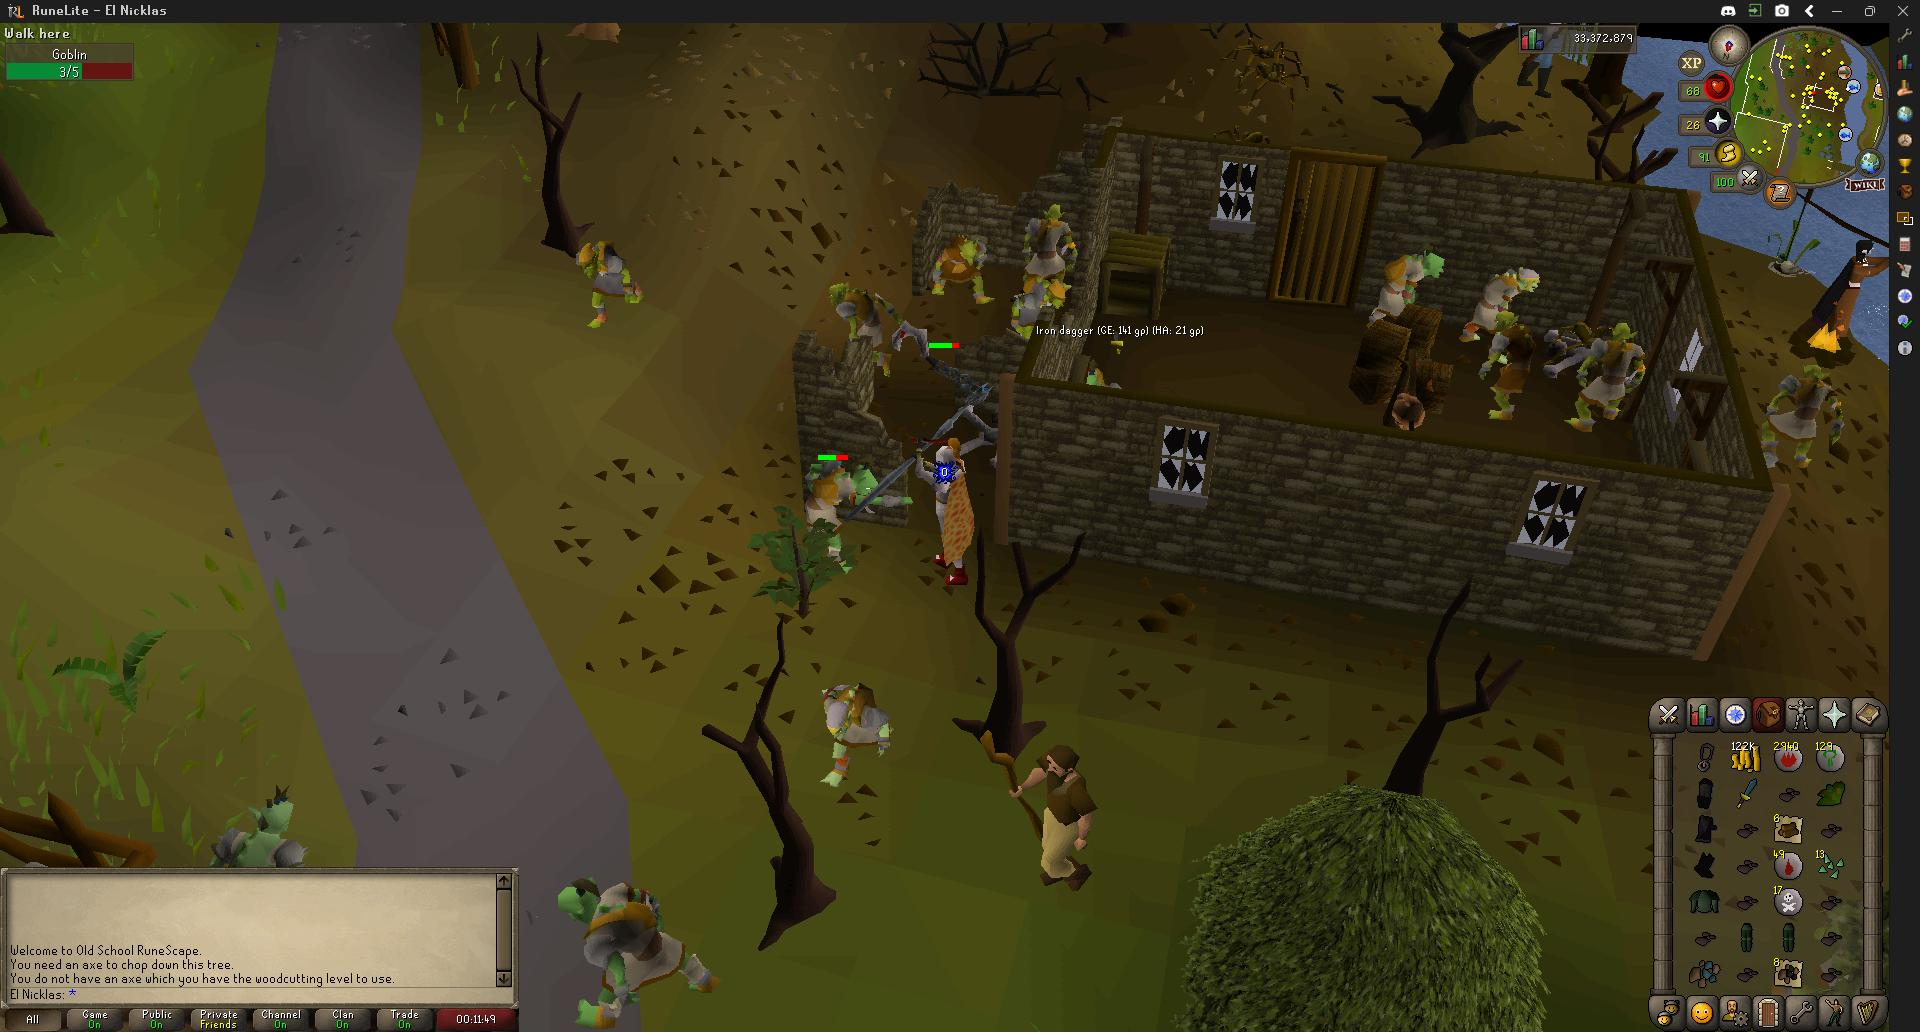Player: (915, 422, 987, 579)
goblin: (563, 873, 697, 1022), (1011, 741, 1097, 893), (1551, 320, 1648, 432), (1757, 363, 1845, 469), (1012, 205, 1079, 342), (817, 681, 894, 787), (828, 283, 903, 376), (1460, 263, 1540, 345), (1365, 248, 1440, 331), (1482, 319, 1541, 421), (581, 239, 644, 328), (928, 225, 996, 304), (802, 466, 856, 539)
